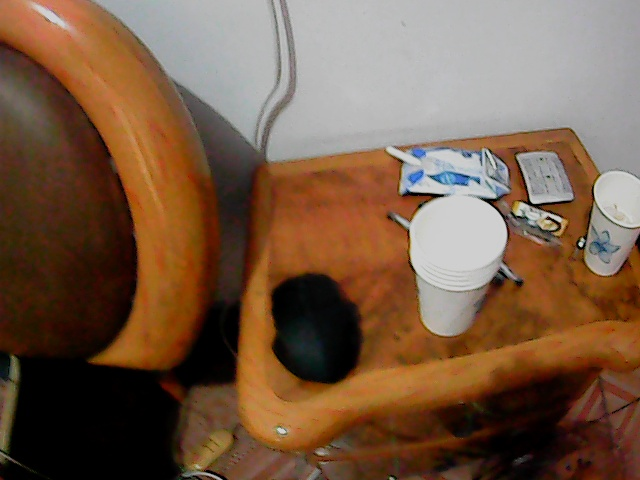cup: (406, 192, 505, 339)
mouse: (268, 271, 362, 387)
